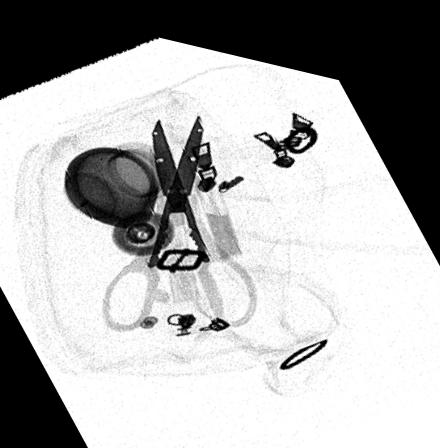Scissors: (94, 97, 262, 331)
